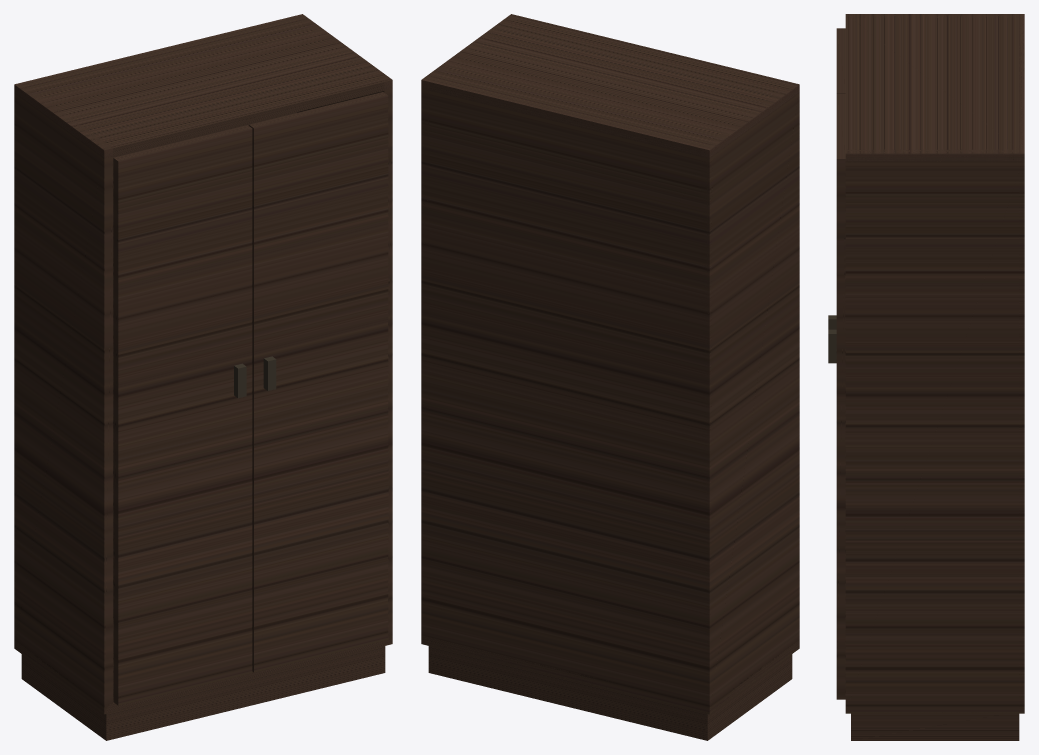
3 views of the same model, side by side, from view 1: azimuth 30°, elevation 25°; view 2: azimuth 150°, elevation 25°; view 3: azimuth 270°, elevation 25° (orthographic).
Visible parts, largest first — view 1: CabinetRoot; view 2: CabinetRoot; view 3: CabinetRoot.
Part boxes in pixels (bbox=[...]): CabinetRoot: bbox=[14, 14, 392, 740]; CabinetRoot: bbox=[421, 14, 799, 740]; CabinetRoot: bbox=[828, 14, 1024, 740].
Bounding box in the file's own units: 0.61 × 1.2 × 0.362.
2 materials, 2 textured.
